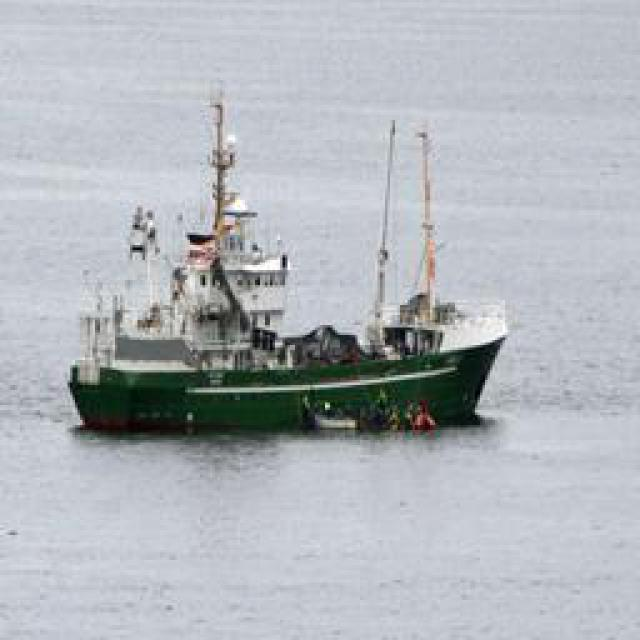Ship: (64, 74, 519, 427)
